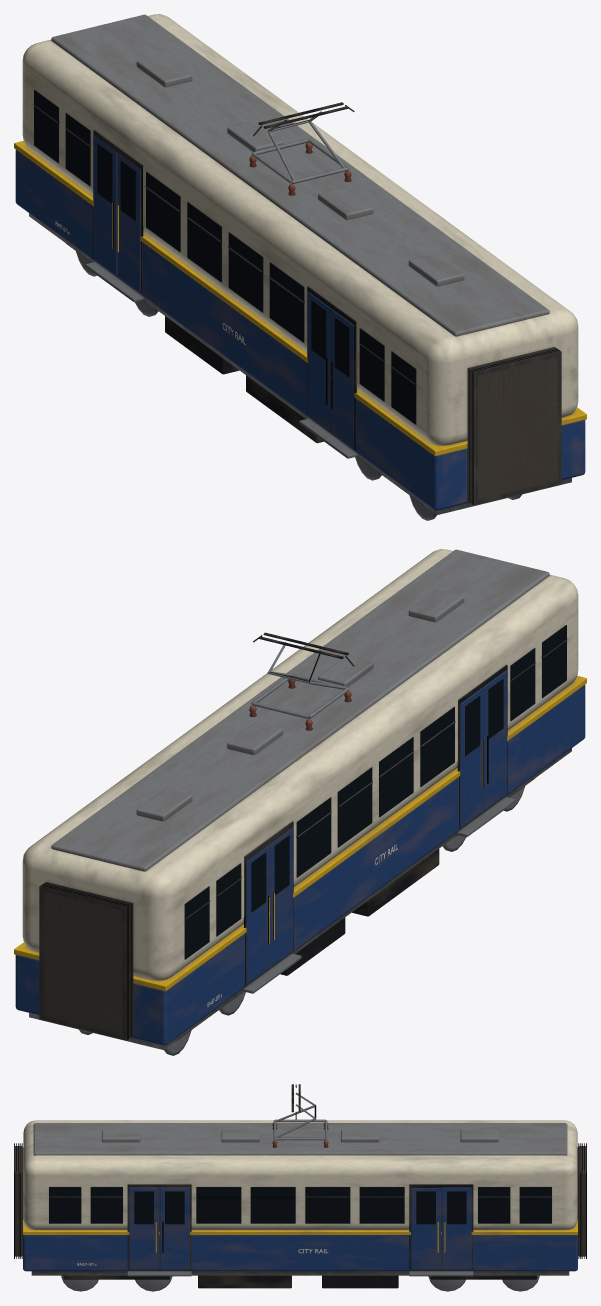
File: kolejka_srodek.glb
3 views of the same model, one above another, from view 1: azimuth 30°, elevation 25°; view 2: azimuth 150°, elevation 25°; view 3: azimuth 270°, elevation 25° (orthographic). The views are drawn at different scales.
Visible parts, largest first — view 1: Nadwozie, Detale, Okna; view 2: Nadwozie, Detale, Okna; view 3: Nadwozie, Detale, Okna.
Boxes of the visible parts, left/top/right/bottom form: Nadwozie: left=14, top=14, right=586, bottom=510; Detale: left=29, top=102, right=571, bottom=520; Okna: left=34, top=90, right=416, bottom=424; Nadwozie: left=14, top=549, right=586, bottom=1045; Detale: left=29, top=632, right=571, bottom=1055; Okna: left=184, top=625, right=566, bottom=959; Nadwozie: left=23, top=1120, right=577, bottom=1271; Detale: left=14, top=1084, right=586, bottom=1291; Okna: left=49, top=1187, right=551, bottom=1224.
Size of the model in its own units: 3 by 4.65 by 13.42.
4 materials, 2 textured.
